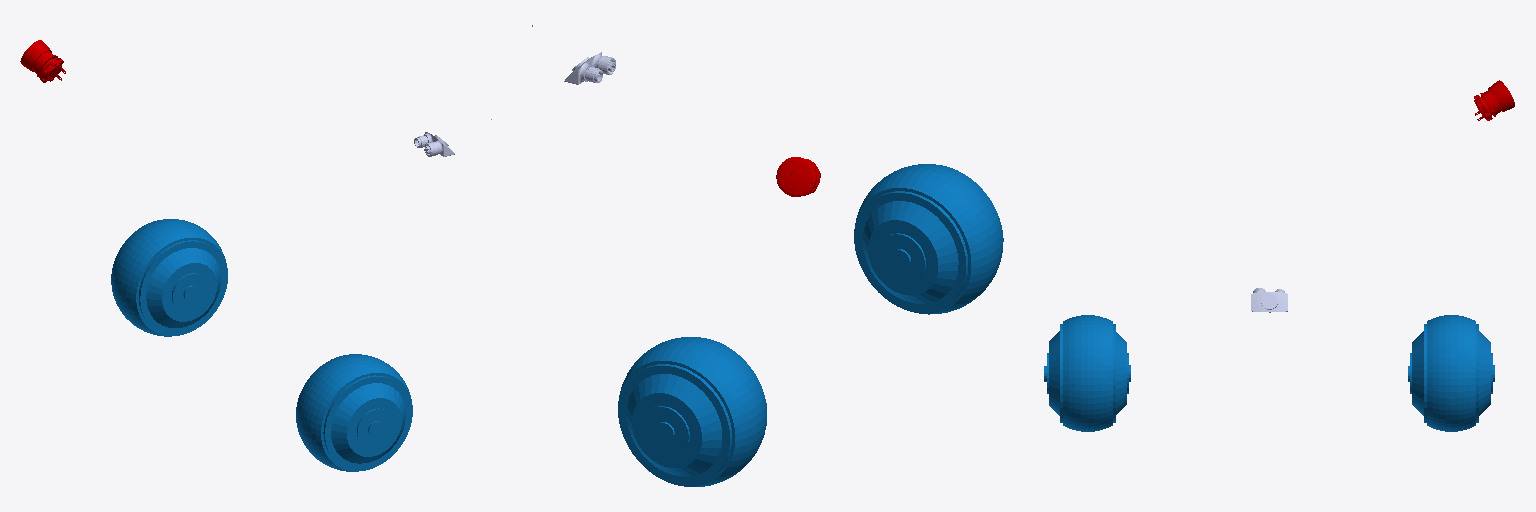
URDF robot description (freight):
<robot name="freight">
  <link name="world_base"/>
  <link name="x_axis"/>
  <link name="y_axis"/>
  <joint name="x" type="prismatic">
    <origin xyz="0 0 0" rpy="0 0 0"/>
    <axis xyz="1 0 0"/>
    <parent link="world_base"/>
    <child link="x_axis"/>
    <limit effort="10.0" velocity="10.0" lower="-2.0" upper="2.0"/>
  </joint>
  <joint name="y" type="prismatic">
    <origin xyz="0 0 0" rpy="0 0 0"/>
    <axis xyz="0 1 0"/>
    <parent link="x_axis"/>
    <child link="y_axis"/>
    <limit effort="10.0" velocity="10.0" lower="-2.0" upper="2.0"/>
  </joint>
  <joint name="heading" type="continuous">
    <origin xyz="0 0 0" rpy="0 0 0"/>
    <axis xyz="0 0 1"/>
    <parent link="y_axis"/>
    <child link="base_link"/>
  </joint>

  <link name="base_link">
    <inertial>
      <origin rpy="0 0 0" xyz="-0.0036 0.0 0.0014" />
      <mass value="70.1294" />
      <inertia ixx="1.225" ixy="0.0099" ixz="0.0062" iyy="1.2853" iyz="-0.0034" izz="0.987" />
    </inertial>
    <visual>
      <origin rpy="0 0 0" xyz="0 0 0" />
      <geometry>
        <mesh filename="package://fetch_description/meshes/base_link.dae" />
      </geometry>
      <material name="">
        <color rgba="0.356 0.361 0.376 1" />
      </material>
    </visual>
    <!-- <collision>
      <origin rpy="0 0 0" xyz="0 0 0" />
      <geometry>
        <mesh filename="package://fetch_description/meshes/base_link_collision.obj" />
      </geometry>
    </collision> -->
  </link>
  <link name="r_wheel_link">
    <inertial>
      <origin rpy="0 0 0" xyz="0 0 0" />
      <mass value="4.3542" />
      <inertia ixx="0.0045" ixy="0" ixz="0" iyy="0.005" iyz="0" izz="0.0045" />
    </inertial>
    <visual>
      <origin rpy="0 0 0" xyz="0 0 0" />
      <geometry>
        <mesh filename="package://fetch_description/meshes/r_wheel_link.obj" />
      </geometry>
      <material name="">
        <color rgba="0.086 0.506 0.767 1" />
      </material>
    </visual>
    <!-- <collision>
      <origin rpy="0 0 0" xyz="0 0 0" />
      <geometry>
        <mesh filename="package://fetch_description/meshes/r_wheel_link_collision.obj" />
      </geometry>
    </collision> -->
  </link>
  <joint name="r_wheel_joint" type="continuous">
    <origin rpy="-6.123E-17 0 0" xyz="0.0012914 -0.18738 0.055325" />
    <parent link="base_link" />
    <child link="r_wheel_link" />
    <axis xyz="0 1 0" />
  <limit effort="8.85" velocity="34.8" /></joint>
  <link name="l_wheel_link">
    <inertial>
      <origin rpy="0 0 0" xyz="0 0 0" />
      <mass value="4.3542" />
      <inertia ixx="0.0045" ixy="0" ixz="0" iyy="0.005" iyz="0" izz="0.0045" />
    </inertial>
    <visual>
      <origin rpy="0 0 0" xyz="0 0 0" />
      <geometry>
        <mesh filename="package://fetch_description/meshes/l_wheel_link.obj" />
      </geometry>
      <material name="">
        <color rgba="0.086 0.506 0.767 1" />
      </material>
    </visual>
    <!-- <collision>
      <origin rpy="0 0 0" xyz="0 0 0" />
      <geometry>
        <mesh filename="package://fetch_description/meshes/l_wheel_link_collision.obj" />
      </geometry>
    </collision> -->
  </link>
  <joint name="l_wheel_joint" type="continuous">
    <origin rpy="-6.123E-17 0 0" xyz="0.0012914 0.18738 0.055325" />
    <parent link="base_link" />
    <child link="l_wheel_link" />
    <axis xyz="0 1 0" />
  <limit effort="8.85" velocity="34.8" /></joint>
  <link name="estop_link">
    <inertial>
      <origin rpy="0 0 0" xyz="0.002434512737072 -0.00330608315239905 0.00665139196650039" />
      <mass value="0.00196130439134723" />
      <inertia ixx="3.02810026604417E-07" ixy="-1.5862023118056E-08" ixz="3.16561396557437E-08" iyy="2.93322917127605E-07" iyz="-4.28833522751273E-08" izz="2.28513272627183E-07" />
    </inertial>
    <visual>
      <origin rpy="0 0 0" xyz="0 0 0" />
      <geometry>
        <mesh filename="package://fetch_description/meshes/estop_link.obj" />
      </geometry>
      <material name="">
        <color rgba="0.8 0 0 1" />
      </material>
    </visual>
    <!-- <collision>
      <origin rpy="0 0 0" xyz="0 0 0" />
      <geometry>
        <mesh filename="package://fetch_description/meshes/estop_link.obj" />
      </geometry>
    </collision> -->
  </link>
  <joint name="estop_joint" type="fixed">
    <origin rpy="1.5708 0 0" xyz="-0.12465 0.23892 0.31127" />
    <parent link="base_link" />
    <child link="estop_link" />
    <axis xyz="0 0 0" />
  </joint>
  <link name="laser_link">
    <inertial>
      <origin rpy="0 0 0" xyz="-0.0306228970175641 0.0007091682908278 0.0551974119471302" />
      <mass value="0.00833634573995571" />
      <inertia ixx="1.01866461240801E-06" ixy="-5.88447626567756E-08" ixz="7.83857244757914E-08" iyy="5.10039589974707E-07" iyz="-7.12664289617235E-09" izz="1.28270671527309E-06" />
    </inertial>
    <visual>
      <origin rpy="0 0 0" xyz="0 0 0" />
      <geometry>
        <mesh filename="package://fetch_description/meshes/laser_link.obj" />
      </geometry>
      <material name="">
        <color rgba="0.792156862745098 0.819607843137255 0.933333333333333 1" />
      </material>
    </visual>
    <!-- <collision>
      <origin rpy="0 0 0" xyz="0 0 0" />
      <geometry>
        <mesh filename="package://fetch_description/meshes/laser_link.obj" />
      </geometry>
    </collision> -->
  </link>
  <joint name="laser_joint" type="fixed">
    <origin rpy="3.14159265359 0 0" xyz="0.235 0 0.2878" />
    <parent link="base_link" />
    <child link="laser_link" />
    <axis xyz="0 0 0" />
  </joint>
  <link name="base_camera_link" />
  <joint name="base_camera_joint" type="fixed">
    <origin rpy="0 -0.17453292519943 0" xyz="0.2645 0 0.198" />
    <parent link="base_link" />
    <child link="base_camera_link" />
  </joint>
  <link name="base_camera_optical_frame" />
  <joint name="base_camera_optical_joint" type="fixed">
    <origin rpy="1.5707963267966 0 1.5707963267966" xyz="0 0 0" />
    <parent link="base_camera_link" />
    <child link="base_camera_optical_frame" />
  </joint>
</robot>

--- Facts derived from the render (not from the file) ---
3 views of the same robot in one strip: view 1: azimuth 30°, elevation 25°; view 2: azimuth 150°, elevation 25°; view 3: azimuth 270°, elevation 25° (orthographic).
Robot: freight — 10 links, 9 joints (3 continuous, 2 prismatic, 4 fixed); root link world_base; default pose: all joints at 0.
Visible links, largest first — view 1: r_wheel_link, l_wheel_link, estop_link, laser_link; view 2: r_wheel_link, l_wheel_link, estop_link, laser_link; view 3: l_wheel_link, r_wheel_link, estop_link, laser_link.
Boxes of the visible links, x1=… form: r_wheel_link: x1=296, y1=354, x2=412, y2=471; l_wheel_link: x1=111, y1=219, x2=227, y2=336; estop_link: x1=20, y1=40, x2=65, y2=82; laser_link: x1=414, y1=119, x2=491, y2=156; r_wheel_link: x1=854, y1=164, x2=1003, y2=314; l_wheel_link: x1=618, y1=337, x2=766, y2=486; estop_link: x1=776, y1=157, x2=820, y2=196; laser_link: x1=532, y1=25, x2=615, y2=84; l_wheel_link: x1=1408, y1=315, x2=1494, y2=431; r_wheel_link: x1=1044, y1=315, x2=1130, y2=431; estop_link: x1=1474, y1=80, x2=1514, y2=120; laser_link: x1=1251, y1=288, x2=1287, y2=312.
Size in the robot's own frame: 0.4051 by 0.4855 by 0.3337 metres.
Meshes: 5 distinct files referenced, 4 mesh visuals loaded (4 OBJ); not drawn: 1 (reference not matched to a file when rendering).